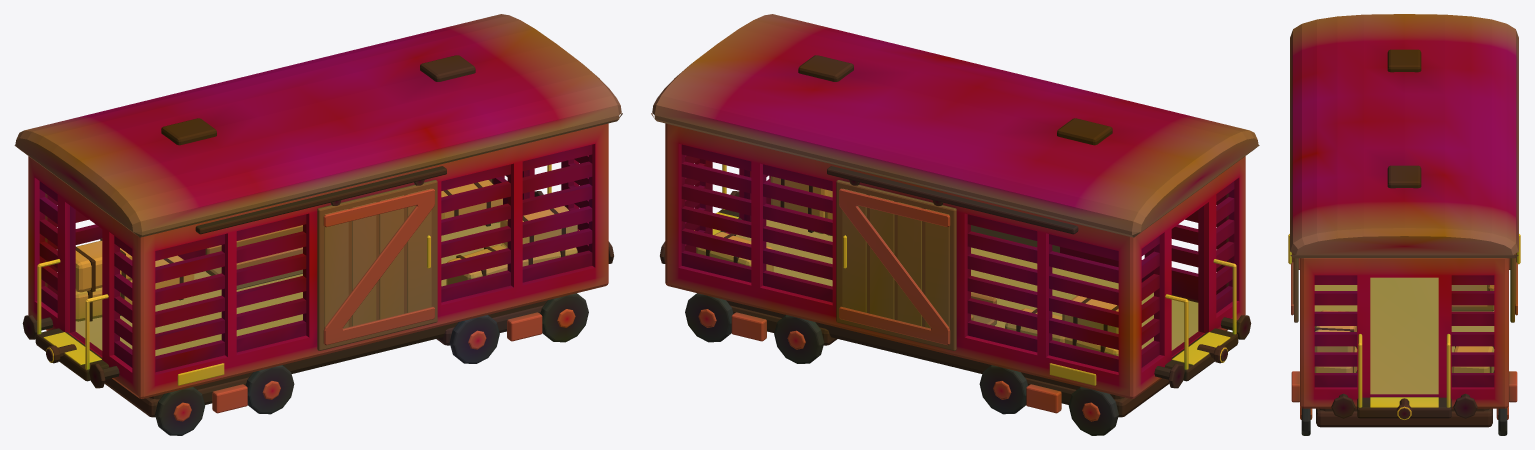
The model's file is CattleWagon_Blockout.glb.
The picture shows the model from 3 angles, left to right: view 1: azimuth 30°, elevation 25°; view 2: azimuth 150°, elevation 25°; view 3: azimuth 270°, elevation 25°; orthographic projection. The views are drawn at different scales.
Visible parts, largest first — view 1: Roof, Walls, Cage, SlideDoor_Near, Underframe, Interior, Ends, DoorTracks; view 2: Roof, Walls, Cage, SlideDoor_Far, Underframe, Interior, Ends, DoorTracks; view 3: Roof, Cage, Interior, Walls, Underframe, Ends, SlideDoor_Near, SlideDoor_Far, Coupler_Front.
Boxes of the visible parts, bbox=[...] form: Roof: bbox=[14, 14, 622, 237]; Walls: bbox=[39, 144, 592, 372]; Cage: bbox=[28, 123, 608, 398]; SlideDoor_Near: bbox=[317, 180, 437, 350]; Underframe: bbox=[104, 293, 588, 435]; Interior: bbox=[75, 180, 577, 356]; Ends: bbox=[22, 164, 613, 388]; DoorTracks: bbox=[195, 166, 446, 234]; Roof: bbox=[651, 14, 1259, 237]; Walls: bbox=[681, 144, 1234, 372]; Cage: bbox=[665, 123, 1245, 398]; SlideDoor_Far: bbox=[836, 180, 956, 350]; Underframe: bbox=[685, 293, 1169, 435]; Interior: bbox=[696, 176, 1198, 356]; Ends: bbox=[660, 164, 1251, 388]; DoorTracks: bbox=[827, 166, 1078, 234]; Roof: bbox=[1290, 14, 1518, 258]; Cage: bbox=[1300, 258, 1508, 408]; Interior: bbox=[1314, 277, 1494, 394]; Walls: bbox=[1314, 275, 1494, 396]; Underframe: bbox=[1291, 258, 1517, 435]; Ends: bbox=[1331, 334, 1477, 418]; SlideDoor_Near: bbox=[1288, 234, 1298, 322]; SlideDoor_Far: bbox=[1510, 234, 1520, 322]; Coupler_Front: bbox=[1396, 398, 1412, 420].
Bounding box in the file's own units: 7.5 × 3.36 × 3.05.
